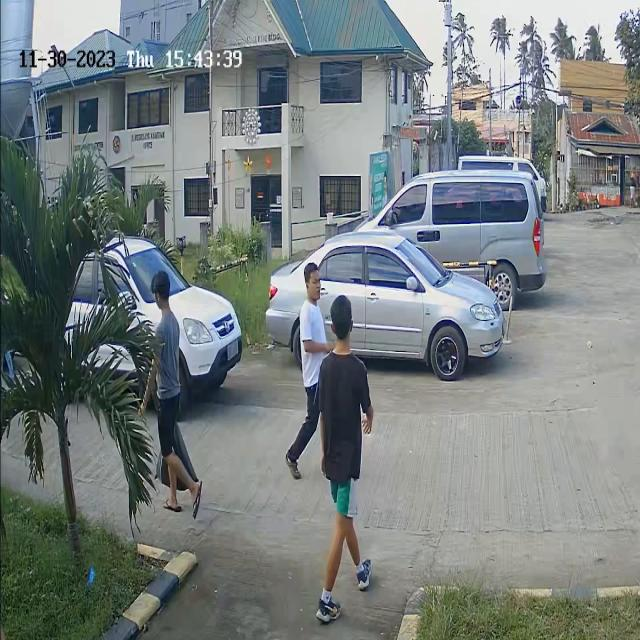person: (315, 282, 367, 544), (142, 276, 197, 446), (290, 252, 332, 388), (11, 46, 41, 72)
